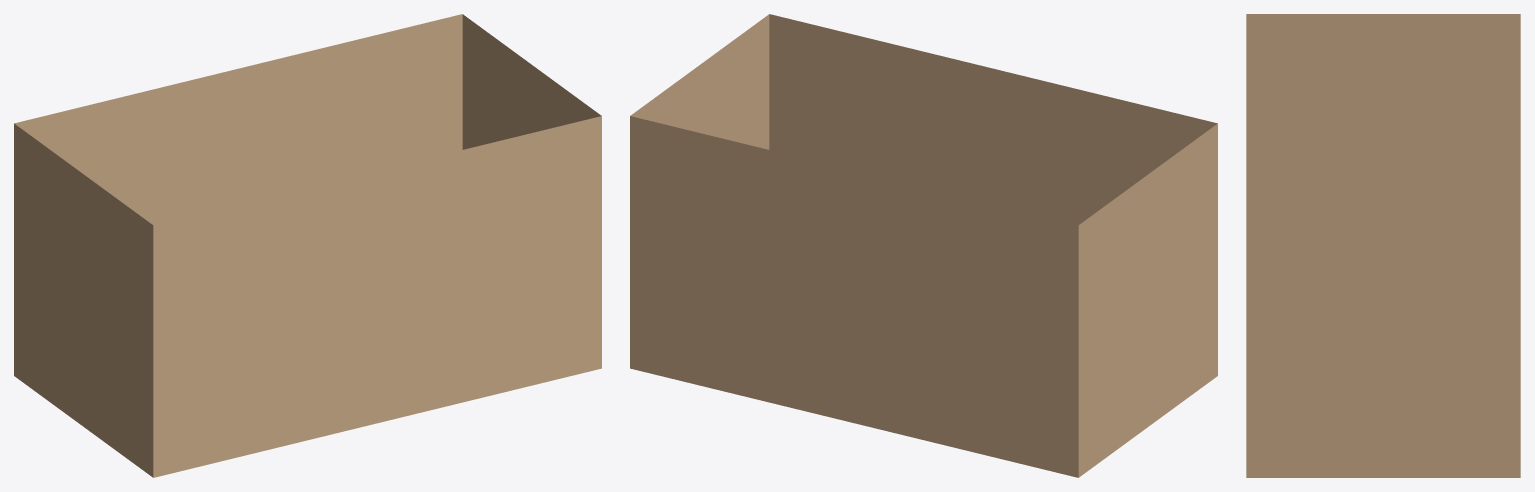
Rendered from Beehive.fbx.
3 views of the same model, side by side, from view 1: azimuth 30°, elevation 25°; view 2: azimuth 150°, elevation 25°; view 3: azimuth 270°, elevation 25° (orthographic).
Visible parts, largest first — view 1: Cube; view 2: Cube; view 3: Cube.
Part boxes in pixels (left/top/right/bottom): Cube: left=14, top=14, right=601, bottom=477; Cube: left=630, top=14, right=1217, bottom=477; Cube: left=1246, top=14, right=1520, bottom=477.
Size of the model in its own units: 372 by 200 by 200.
